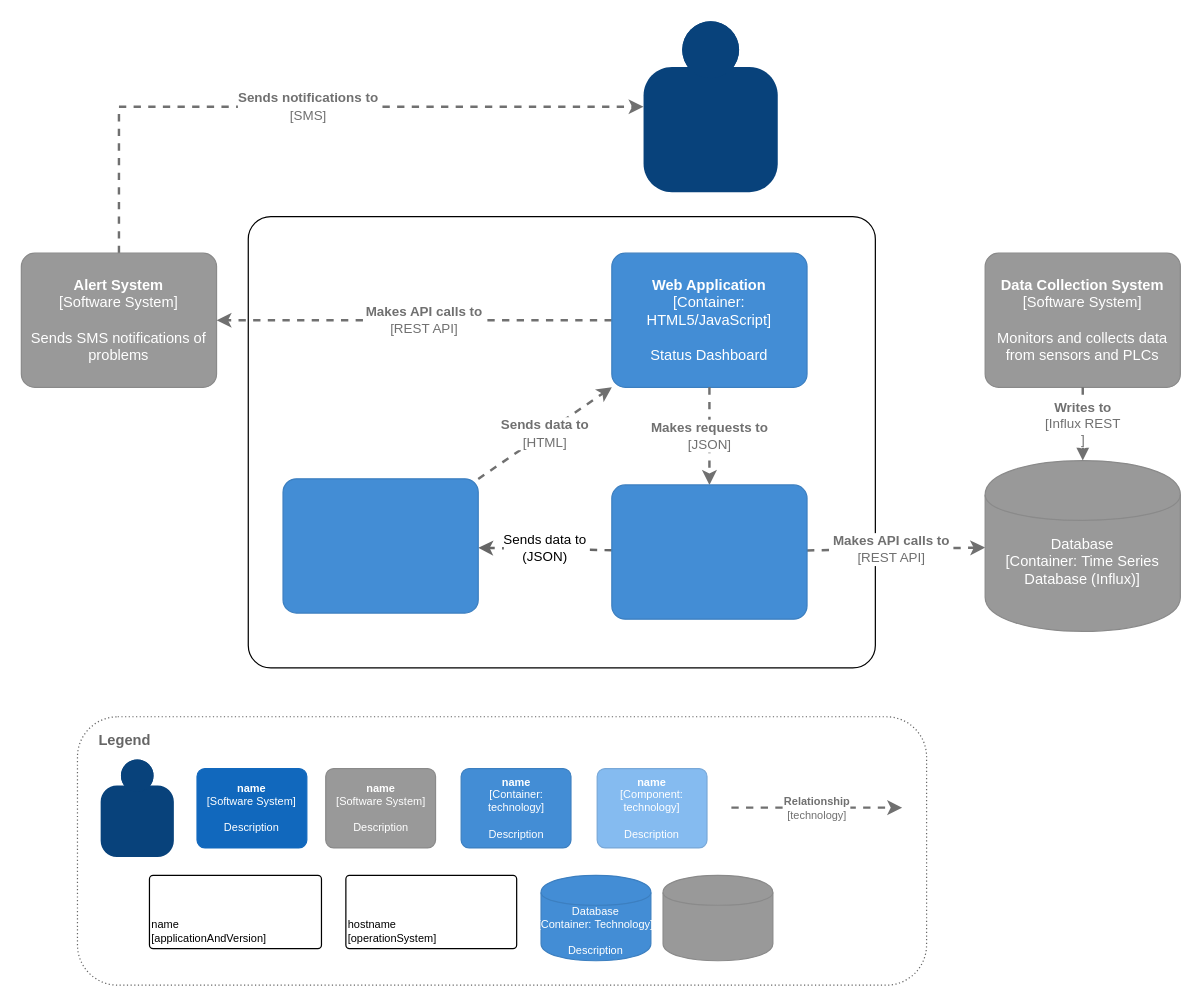
This 1202x1007 diagram has some shape labels left out. Each missing label, with the box of its shape:
API Service [Container: Java/Python]: (611, 484, 807, 619)
Database [Container: Technology] External: (662, 874, 773, 961)
name [Person] Description: (100, 759, 173, 856)
Status Dashboard [Container]: (247, 215, 875, 668)
Support Staff [Person] Monitors the production line: (643, 21, 777, 192)
Visualisation Dashboard [Container: Graphics libaries]: (282, 478, 478, 613)
